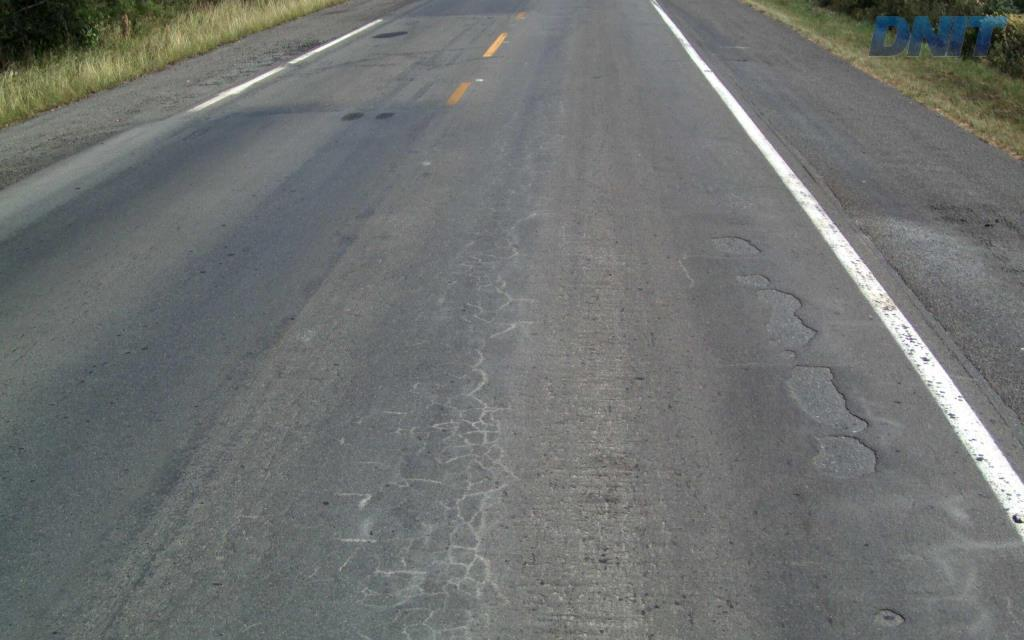pothole: (777, 361, 882, 484), (723, 270, 827, 359), (706, 232, 766, 263), (865, 606, 911, 627)
